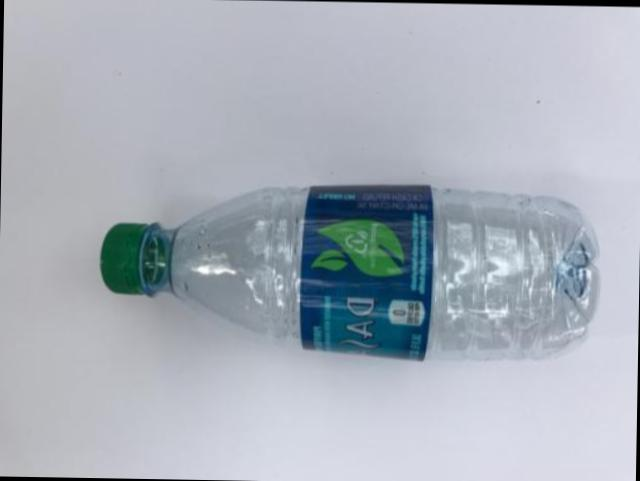plastic: (104, 183, 599, 356)
